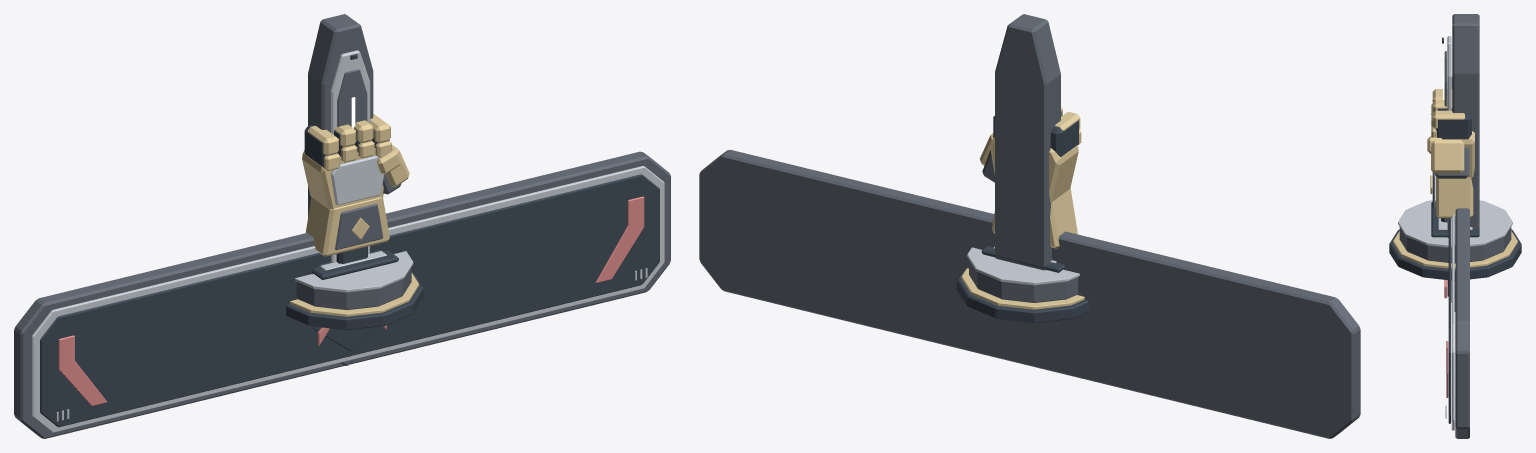
The model's file is Professional.fbx.
3 renders of one model, left to right at view 1: azimuth 30°, elevation 25°; view 2: azimuth 150°, elevation 25°; view 3: azimuth 270°, elevation 25°, orthographic. The views are drawn at different scales.
Parts seen in each view (by area): view 1: ArenaHeader_Face, ArenaHeader_Backing, ArenaHeader_BrushedLip, ArenaFin_Spine, GauntletTrophy_Cuff, GauntletTrophy_Plinth, GauntletTrophy_PlinthFoot, GauntletTrophy_PlinthTop, GauntletTrophy_BackPlate, ArenaHeader_Accent1, GauntletTrophy_CuffInset, ArenaFin_Inset (+6 smaller); view 2: ArenaHeader_Backing, ArenaFin_Spine, GauntletTrophy_Plinth, GauntletTrophy_PlinthFoot, GauntletTrophy_PlinthTop, GauntletTrophy_Palm, GauntletTrophy_Cuff, GauntletTrophy_PlinthEdge, GauntletTrophy_FingerRecess0; view 3: ArenaFin_Spine, ArenaHeader_Backing, GauntletTrophy_PlinthTop, GauntletTrophy_PlinthFoot, GauntletTrophy_Plinth, GauntletTrophy_Cuff, GauntletTrophy_ThumbArmour, GauntletTrophy_PlinthEdge, ArenaHeader_BrushedLip, GauntletTrophy_FingerRecess3, ArenaHeader_Face, EquipmentCase_Lid (+8 smaller).
Part boxes in pixels (box(x1,y1,x2,y2)): ArenaHeader_Face: box(40, 174, 659, 427); ArenaHeader_Backing: box(14, 151, 670, 438); ArenaHeader_BrushedLip: box(31, 166, 664, 432); ArenaFin_Spine: box(308, 14, 373, 217); GauntletTrophy_Cuff: box(305, 197, 389, 256); GauntletTrophy_Plinth: box(296, 267, 411, 310); GauntletTrophy_PlinthFoot: box(286, 274, 423, 330); GauntletTrophy_PlinthTop: box(295, 251, 413, 292); GauntletTrophy_BackPlate: box(331, 155, 384, 205); ArenaHeader_Accent1: box(595, 196, 644, 282); GauntletTrophy_CuffInset: box(335, 204, 383, 249); ArenaFin_Inset: box(337, 69, 367, 126); ArenaHeader_Backing: box(699, 149, 1360, 438); ArenaFin_Spine: box(995, 14, 1060, 270); GauntletTrophy_Plinth: box(969, 260, 1078, 302); GauntletTrophy_PlinthFoot: box(956, 270, 1088, 323); GauntletTrophy_PlinthTop: box(967, 234, 1079, 284); GauntletTrophy_Palm: box(990, 137, 1078, 202); GauntletTrophy_Cuff: box(991, 188, 1077, 248); GauntletTrophy_PlinthEdge: box(961, 268, 1084, 309); GauntletTrophy_FingerRecess0: box(1050, 120, 1078, 156); ArenaFin_Spine: box(1452, 14, 1479, 228); ArenaHeader_Backing: box(1455, 208, 1469, 438); GauntletTrophy_PlinthTop: box(1398, 200, 1512, 247); GauntletTrophy_PlinthFoot: box(1389, 229, 1521, 280); GauntletTrophy_Plinth: box(1399, 227, 1511, 263); GauntletTrophy_Cuff: box(1436, 176, 1473, 218); GauntletTrophy_ThumbArmour: box(1431, 139, 1464, 173); GauntletTrophy_PlinthEdge: box(1393, 231, 1517, 269); ArenaHeader_BrushedLip: box(1451, 77, 1454, 430); GauntletTrophy_FingerRecess3: box(1435, 114, 1471, 139); ArenaHeader_Face: box(1448, 218, 1450, 423); EquipmentCase_Lid: box(1431, 201, 1479, 237).
Size of the model in its own units: 40 by 20 by 8.16.
